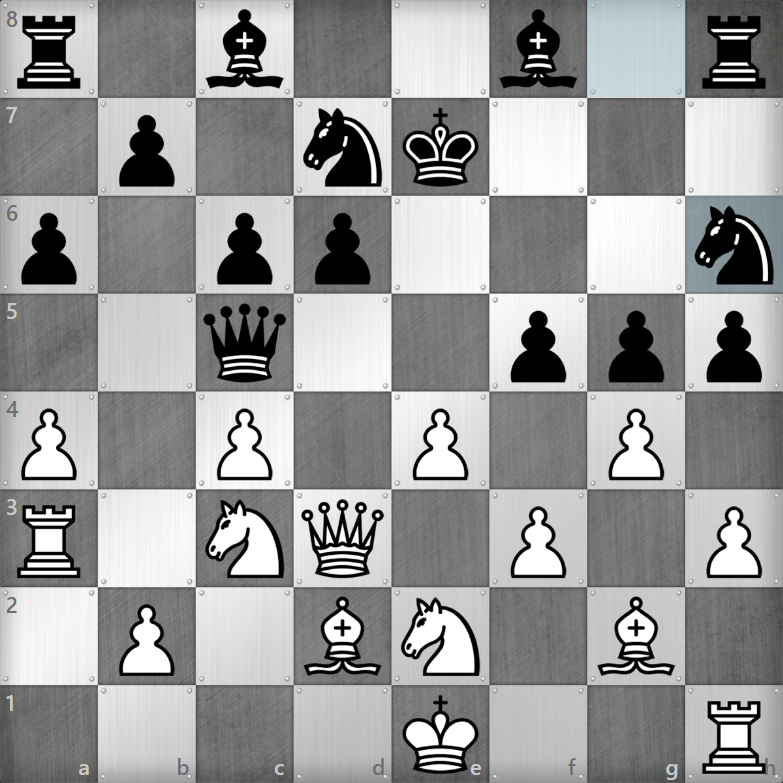B: (302, 593, 384, 679), (595, 596, 677, 679)
K: (401, 691, 481, 776)
N: (399, 596, 484, 679), (204, 497, 286, 583)
P: (116, 602, 178, 679), (703, 504, 764, 582), (509, 504, 570, 581), (606, 405, 667, 482), (410, 405, 471, 482), (213, 406, 274, 483), (17, 405, 78, 482)
Q: (298, 497, 387, 581)
R: (699, 698, 770, 777), (15, 502, 82, 580)
b: (203, 7, 286, 93), (497, 7, 580, 92)
k: (400, 106, 481, 188)
n: (693, 204, 778, 288), (302, 107, 384, 191)
p: (508, 309, 568, 385), (607, 309, 667, 385), (703, 308, 763, 384), (313, 211, 373, 287), (214, 211, 274, 287), (116, 113, 176, 189), (18, 211, 78, 287)
q: (201, 301, 288, 385)
r: (13, 13, 84, 92), (700, 12, 770, 92)
